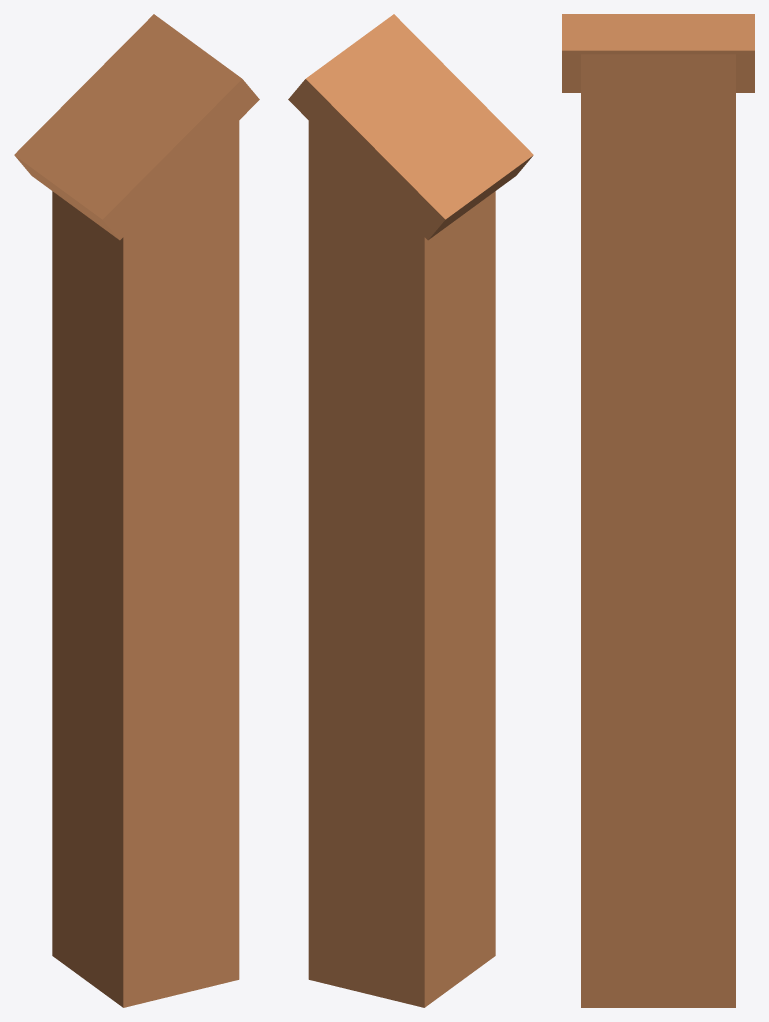
File: Fence2.fbx
The picture shows the model from 3 angles, left to right: view 1: azimuth 30°, elevation 25°; view 2: azimuth 150°, elevation 25°; view 3: azimuth 270°, elevation 25°; orthographic projection. The views are drawn at different scales.
Visible parts, largest first — view 1: Cube.010; view 2: Cube.010; view 3: Cube.010.
Boxes of the visible parts, x1,y1,x2,y2 form: Cube.010: [14, 14, 259, 1007]; Cube.010: [288, 14, 533, 1007]; Cube.010: [562, 14, 754, 1007].
Bounding box in the file's own units: 14.93 × 82.35 × 14.53.
